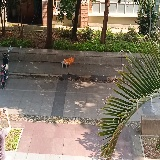fire: (64, 57, 74, 64)
